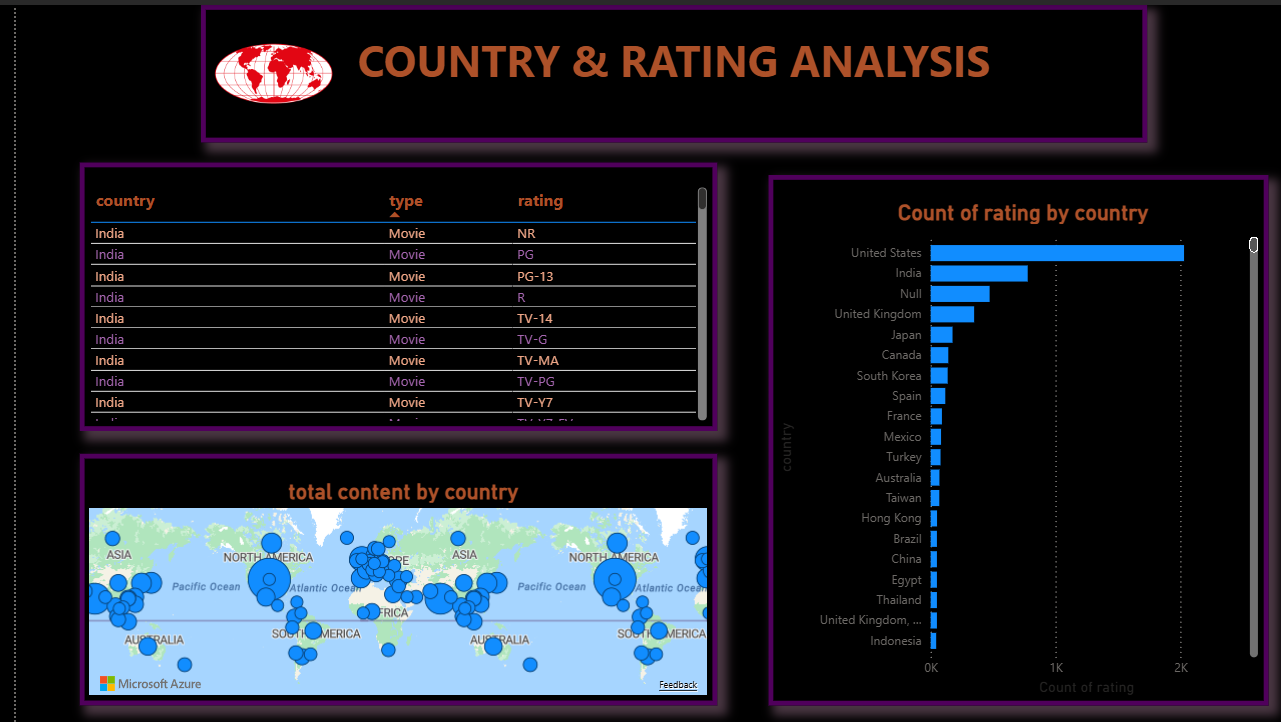

What the dashboard file says about the page in this screenshot:
{"tool":"powerbi","page":{"name":"country rating","canvas":[1280,720],"ordinal":2},"visuals":[{"type":"textbox","box":[184.5,0,941.8,136.9],"z":0},{"type":"image","box":[184.5,0,145.3,136.9],"z":1000},{"type":"azureMap","fields":{"Category":["Table1.country"],"Size":["Table1.total content"]},"box":[62.9,447.2,634.4,250.1],"z":2000},{"type":"barChart","fields":{"Category":["Table1.country"],"Y":["CountNonNull(Table1.rating)"]},"box":[749,169.1,497.5,528.2],"z":3000},{"type":"tableEx","fields":{"Values":["Table1.country","Table1.type","Table1.rating"]},"box":[62.9,156.5,634.4,266.9],"z":4000}]}

Visuals, with their boxes in screenshot pixels (x1, y1, x2, y2), scaled from the page's 1280x720 canvas onto the 1281x722 screenshot:
textbox: <region>185, 0, 1127, 137</region>
image: <region>185, 0, 330, 137</region>
azureMap - Table1.country x Table1.total content: <region>63, 448, 698, 699</region>
barChart - Table1.country x CountNonNull(Table1.rating): <region>750, 170, 1247, 699</region>
tableEx - Table1.country x Table1.type: <region>63, 157, 698, 425</region>
